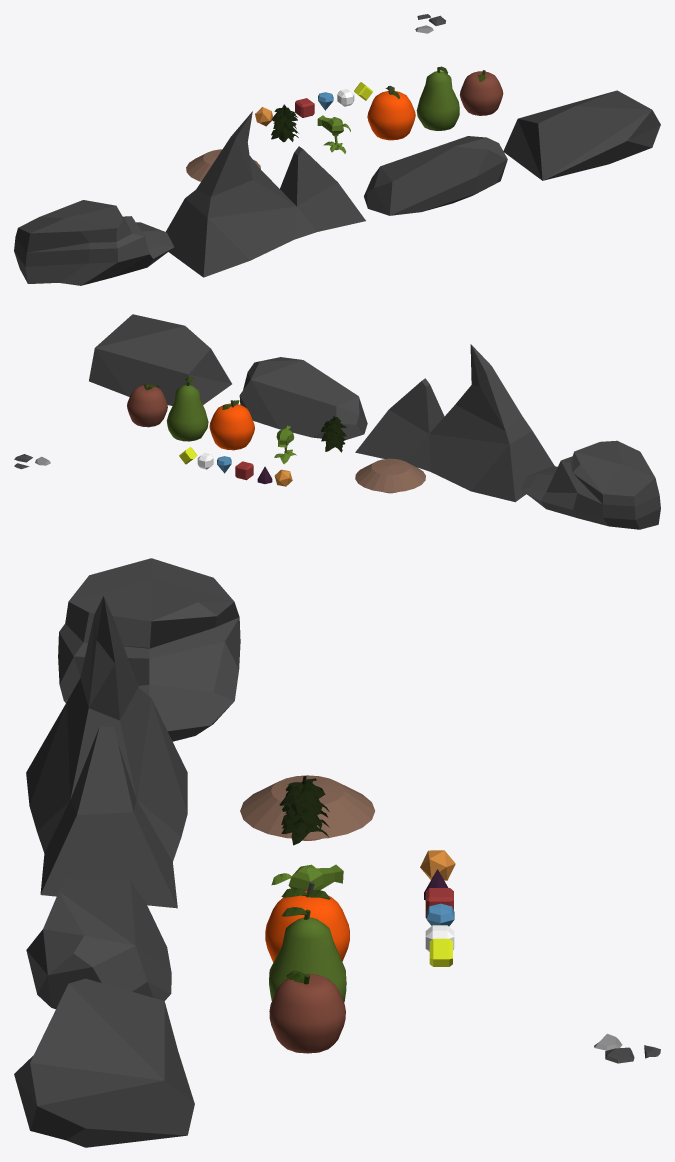
3 renders of one model, top to bottom at view 1: azimuth 30°, elevation 25°; view 2: azimuth 150°, elevation 25°; view 3: azimuth 270°, elevation 25°, orthographic. The views are drawn at different scales.
Parts seen in each view (by area): view 1: pCube16, pCube17, pPlatonic1, pPlatonic3, pasted__pSphere1 group, pSphere1, pasted__pSphere1 group6, pSphere2, polySurface11; view 2: pCube16, pCube17, pPlatonic1, pPlatonic3, pSphere2, pasted__pSphere1 group, pSphere1, pasted__pSphere1 group6, polySurface11; view 3: pCube16, pPlatonic1, pCube17, pPlatonic3, pasted__pSphere1 group6, pSphere2, pasted__pSphere1 group, pSphere1, polySurface11.
Part boxes in pixels (x1,y1,x2,y2): pCube16: (166, 111, 365, 277); pCube17: (14, 200, 174, 285); pPlatonic1: (503, 90, 660, 180); pPlatonic3: (364, 136, 507, 215); pasted__pSphere1 group: (416, 71, 459, 130); pSphere1: (367, 91, 415, 140); pasted__pSphere1 group6: (460, 71, 503, 115); pSphere2: (186, 149, 260, 181); polySurface11: (317, 115, 350, 153); pCube16: (355, 344, 554, 502); pCube17: (520, 440, 660, 529); pPlatonic1: (89, 314, 231, 405); pPlatonic3: (239, 357, 367, 440); pSphere2: (355, 458, 425, 493); pasted__pSphere1 group: (166, 385, 208, 441); pSphere1: (209, 403, 254, 450); pasted__pSphere1 group6: (127, 385, 167, 427); polySurface11: (274, 425, 296, 463); pCube16: (26, 596, 187, 908); pPlatonic1: (14, 978, 194, 1147); pCube17: (58, 558, 240, 741); pPlatonic3: (26, 878, 171, 1009); pasted__pSphere1 group6: (269, 973, 345, 1053); pSphere2: (240, 775, 374, 840); pasted__pSphere1 group: (269, 917, 346, 1002); pSphere1: (265, 890, 349, 962); polySurface11: (271, 864, 343, 890).
Bounding box in the file's own units: 17.15 × 3.62 × 8.87.
